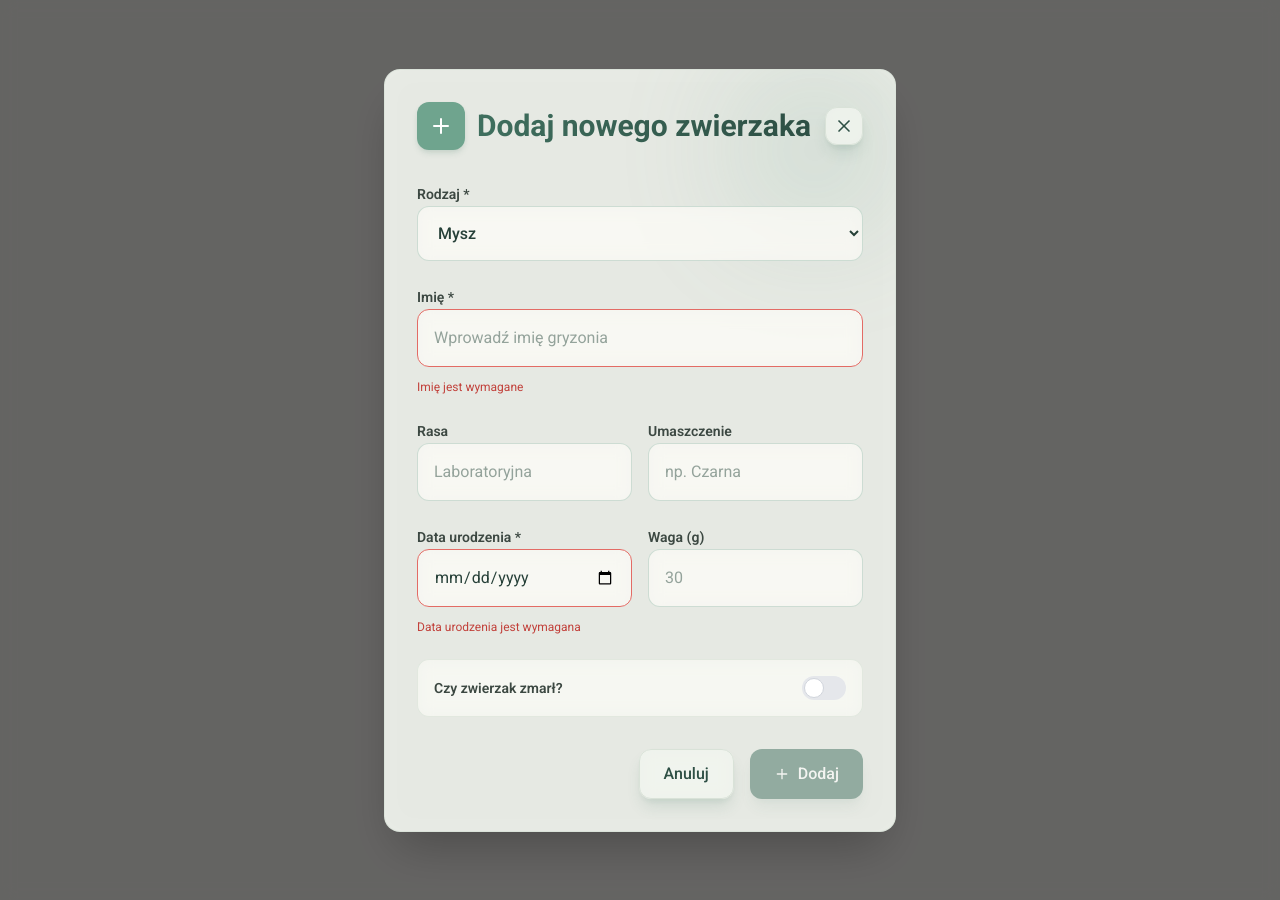
AddPetModal Component › shows custom animal type input when 'Inne' is selected
The width and height of the screenshot is (1280, 900).
Select "Inne" in the dropdown named "animalType" at (640, 233), box [417,206,863,260]
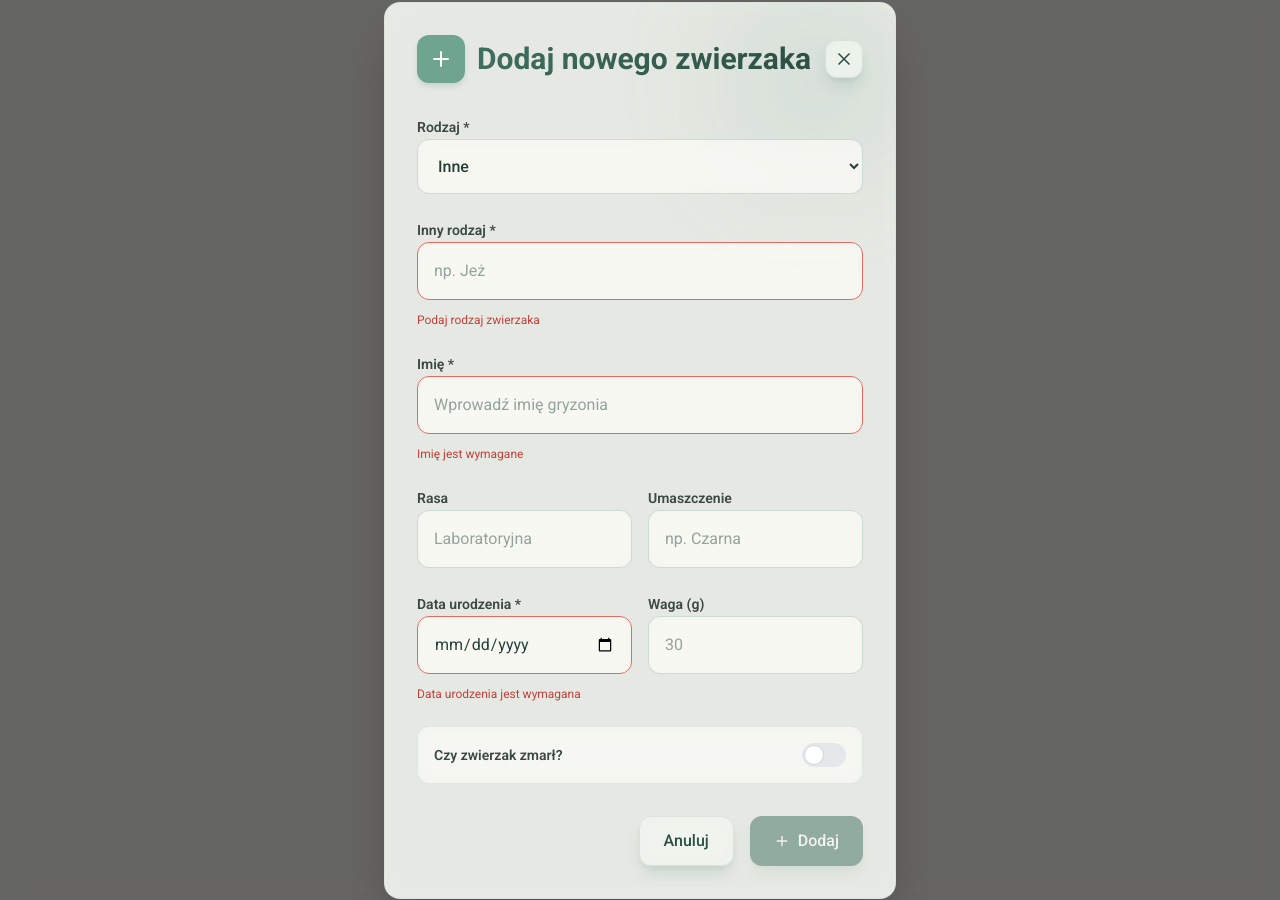
Expected: the field with placeholder "np. Jeż" is shown, [417,242,863,300]
